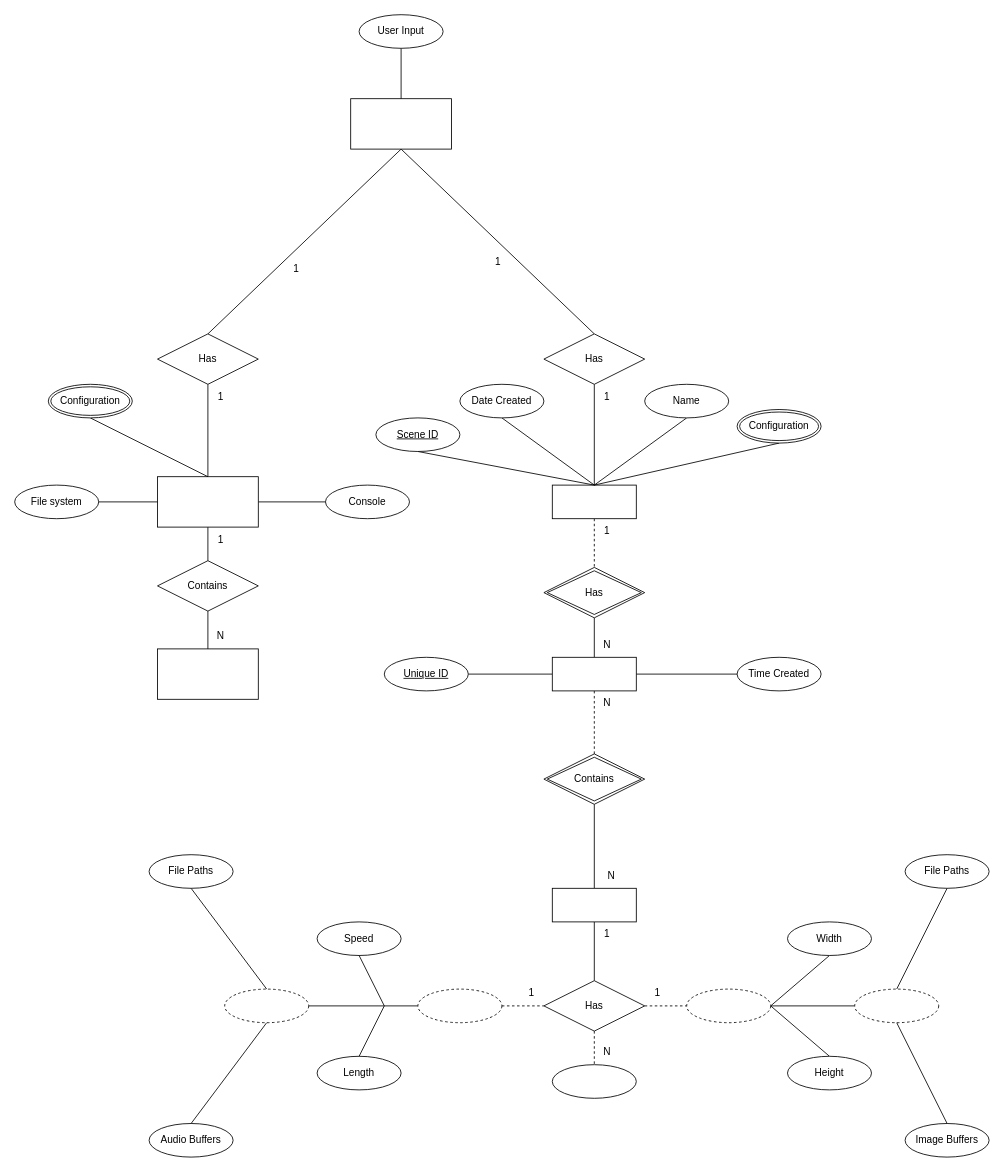
The diagram is 1004 pixels wide and 1172 high, and some of its shapes have lost their labels. The shapes that lost their labels are listed below. From the top down, each one's box as (x1, y1, x2, y2) in pixels, then its label:
(350, 98, 452, 149): Editor
(157, 476, 258, 527): UI
(551, 484, 636, 519): Scene
(157, 648, 258, 699): Windows
(551, 656, 636, 691): Entity
(551, 887, 636, 922): Components
(224, 988, 309, 1023): Audio Data
(417, 988, 502, 1023): Audio Player
(686, 988, 771, 1023): Texture Map
(854, 988, 939, 1023): Image Data
(551, 1064, 636, 1098): Attributes
